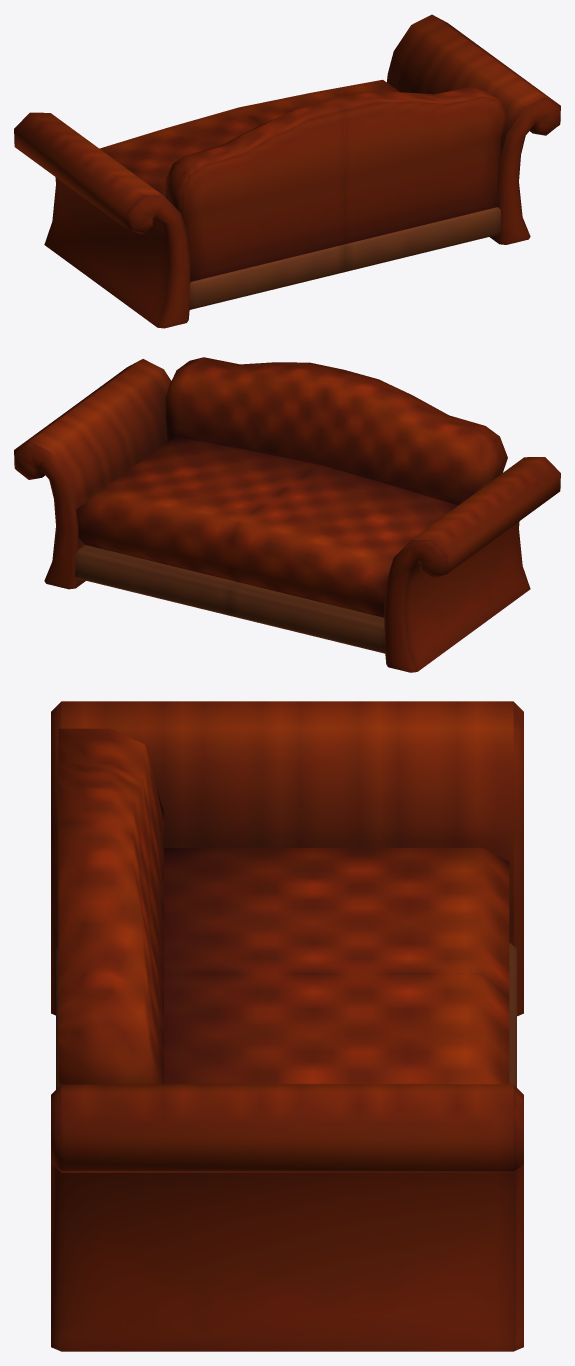
The model's file is Sofa_03.gltf.
3 renders of one model, top to bottom at view 1: azimuth 30°, elevation 25°; view 2: azimuth 150°, elevation 25°; view 3: azimuth 270°, elevation 25°, orthographic. The views are drawn at different scales.
Visible parts, largest first — view 1: Sofa_03; view 2: Sofa_03; view 3: Sofa_03.
Part boxes in pixels (bbox=[...]): Sofa_03: bbox=[14, 14, 560, 328]; Sofa_03: bbox=[14, 357, 560, 672]; Sofa_03: bbox=[51, 701, 523, 1351].
Size of the model in its own units: 74.36 by 28.37 by 35.08.
Materials: 1 (1 with a texture image).
